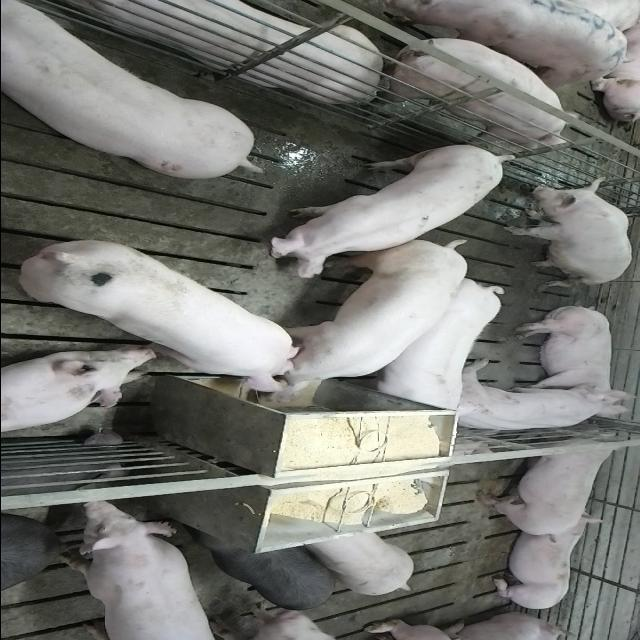Feeding: (16, 238, 304, 400), (258, 232, 476, 400)
Lateral_lying: (509, 304, 631, 414)
Sitting: (502, 178, 632, 286), (445, 370, 630, 436)
Standing: (0, 0, 257, 176), (262, 140, 520, 274), (368, 19, 576, 148), (59, 499, 224, 638), (372, 0, 632, 87), (364, 277, 508, 413), (472, 431, 624, 540), (186, 532, 338, 610), (303, 530, 413, 596)
Sternal_lying: (0, 348, 154, 435), (486, 516, 604, 612)
